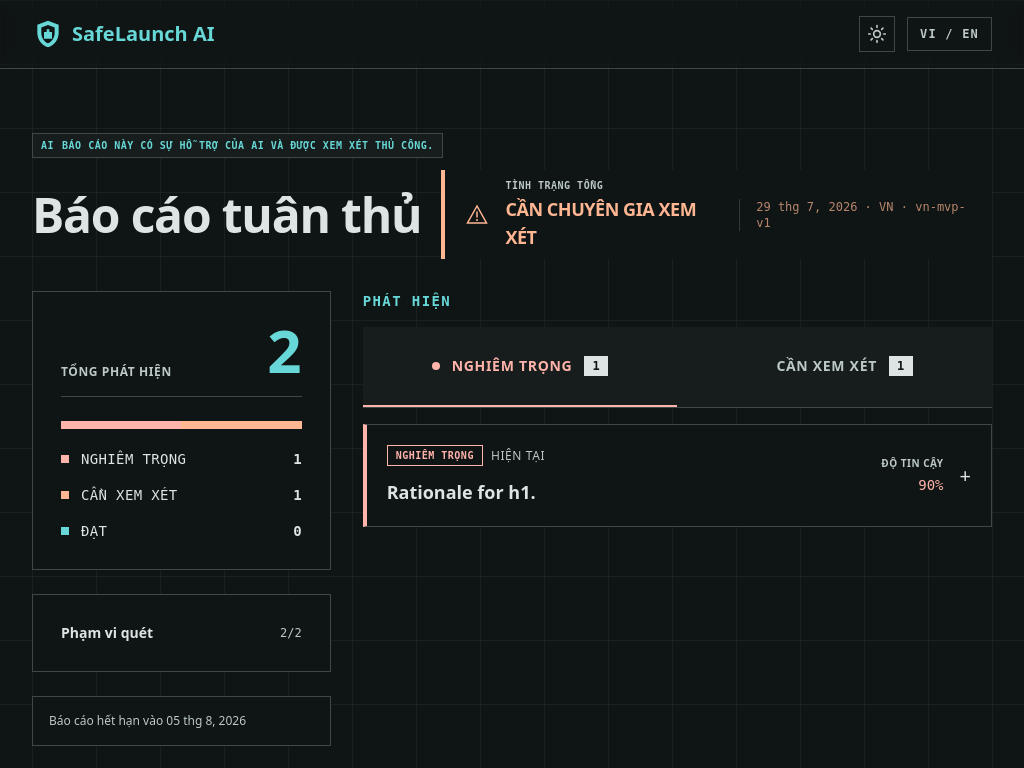
Test case: severity tabs › switches tab on click
This screenshot has width=1024, height=768.
What coordinates should you click on to do the following:
click the tab with test id "findings-tab-review"
I would click on:
 (835, 367)
Its box is [677,327,992,407].
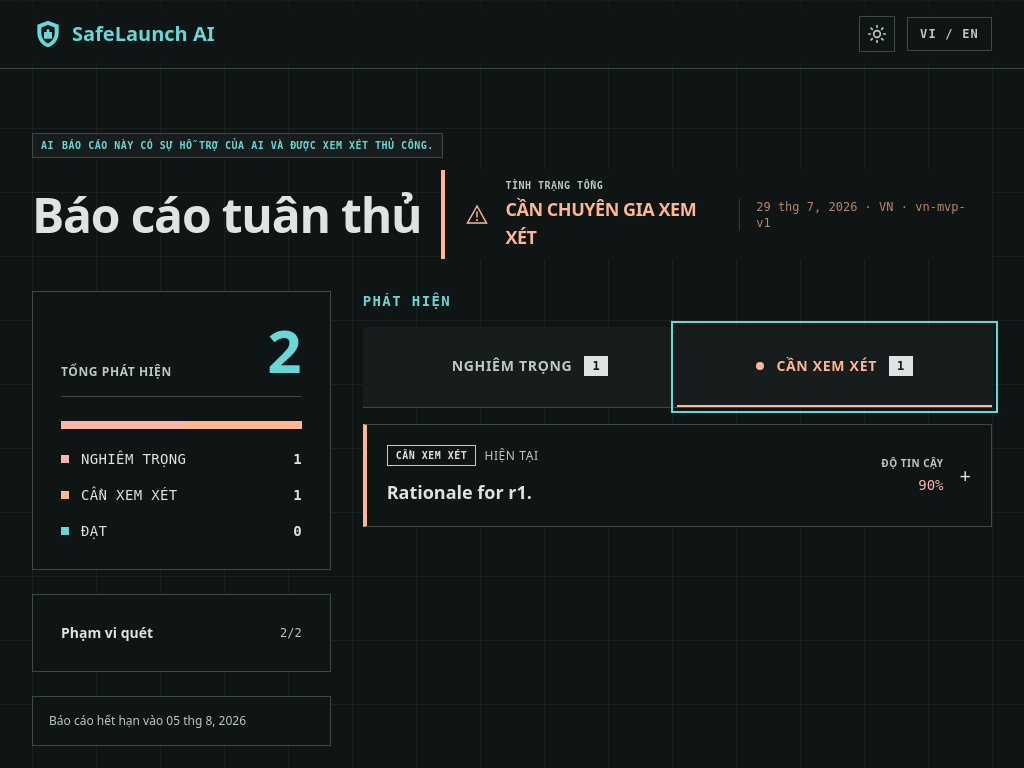
Check: the panel with test id "findings-tabpanel-review" is shown, box [363,424,992,527]
Check: the panel with test id "findings-tabpanel-high" is gone
